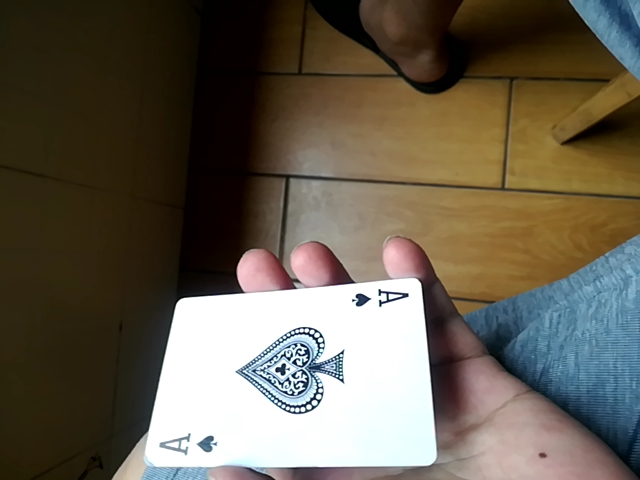ht a: (142, 272, 435, 475)
